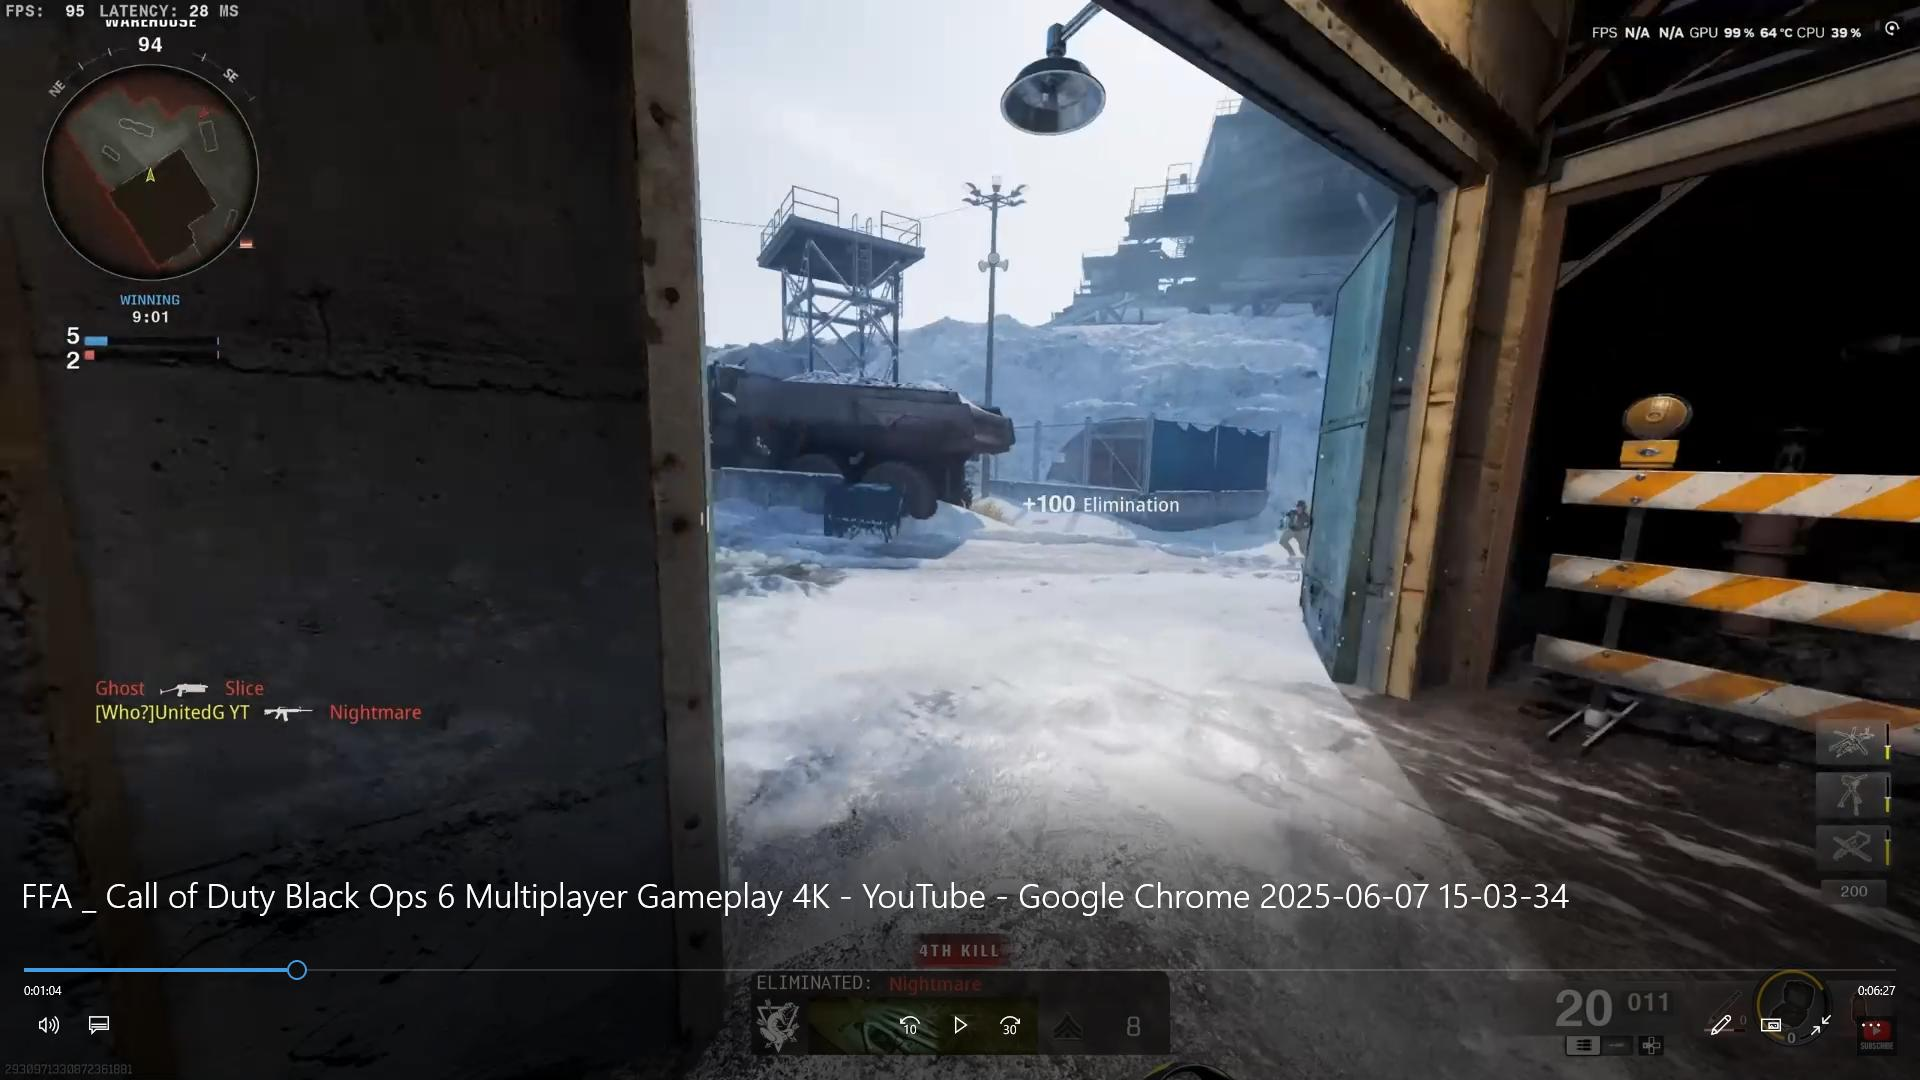Enemy: (1270, 488, 1315, 571)
